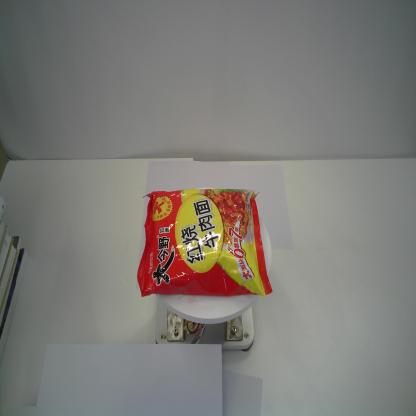Instant Noodles: (136, 187, 274, 300)
